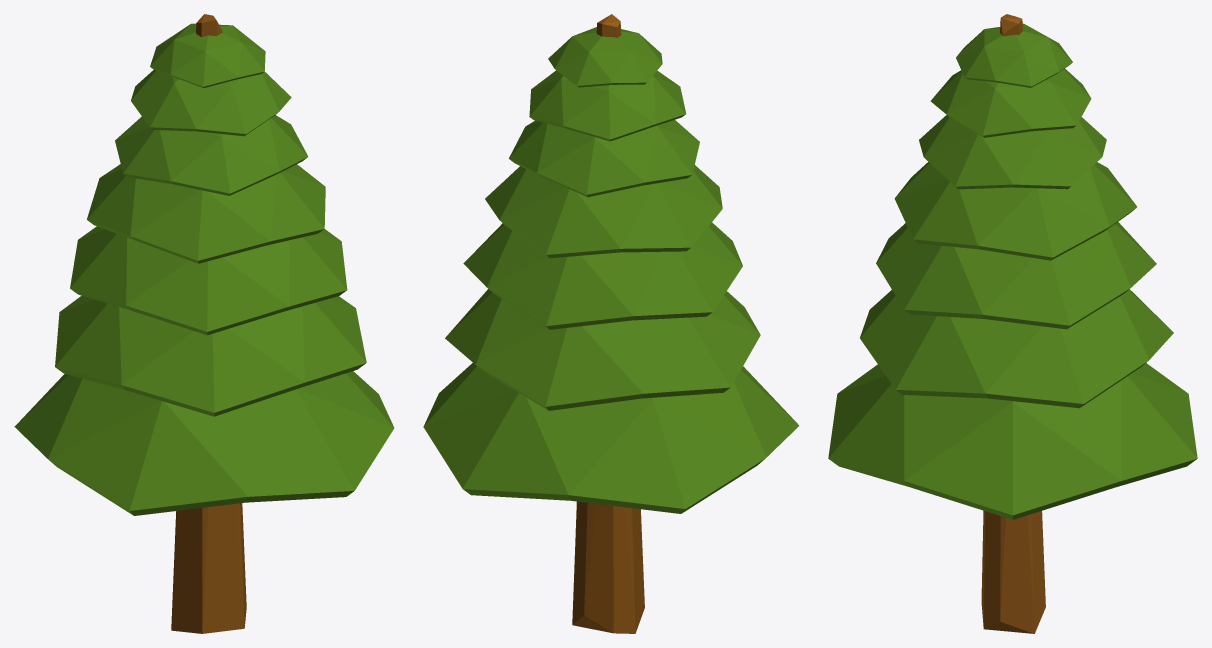
The model's file is JambTree2.fbx.
3 views of the same model, side by side, from view 1: azimuth 30°, elevation 25°; view 2: azimuth 150°, elevation 25°; view 3: azimuth 270°, elevation 25° (orthographic).
Visible parts, largest first — view 1: Icosphere.007; view 2: Icosphere.007; view 3: Icosphere.007.
Boxes of the visible parts, x1,y1,x2,y2 form: Icosphere.007: (14, 14, 394, 633); Icosphere.007: (423, 14, 799, 633); Icosphere.007: (828, 14, 1197, 633).
Size of the model in its own units: 3532 by 6226 by 3444.
